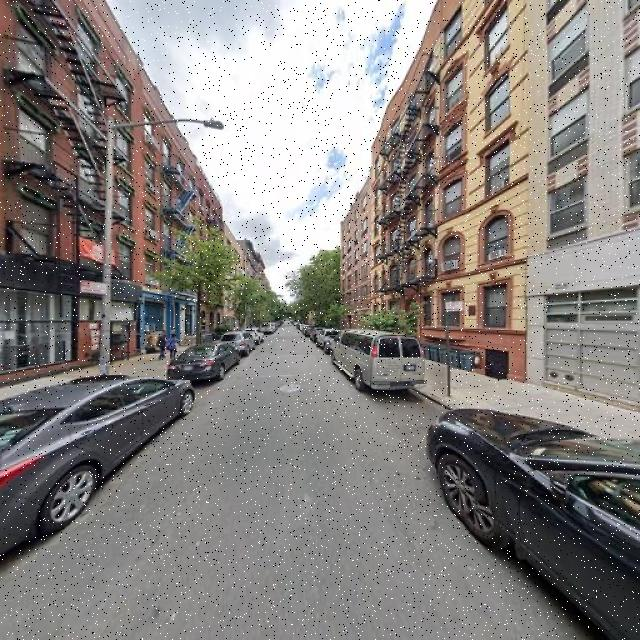Building: (374, 1, 524, 382), (1, 1, 137, 393), (529, 1, 640, 409), (141, 68, 193, 357), (342, 175, 371, 340), (195, 164, 220, 342), (223, 225, 242, 335)
